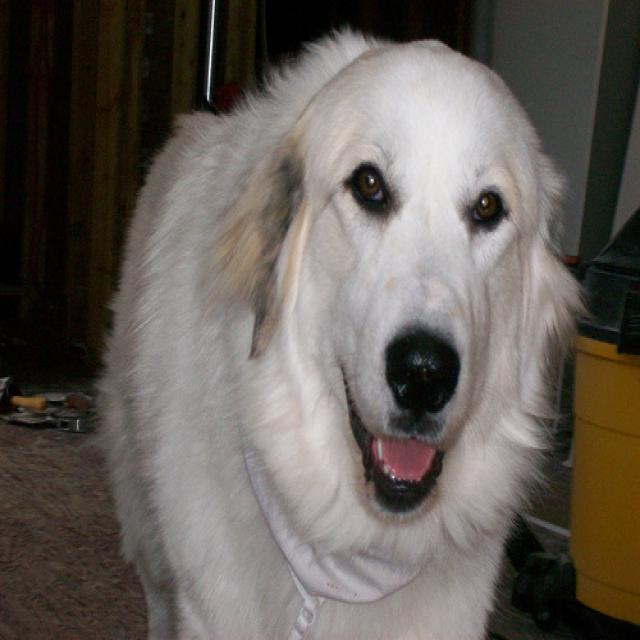dog-great_pyrenees: (93, 14, 594, 637)
